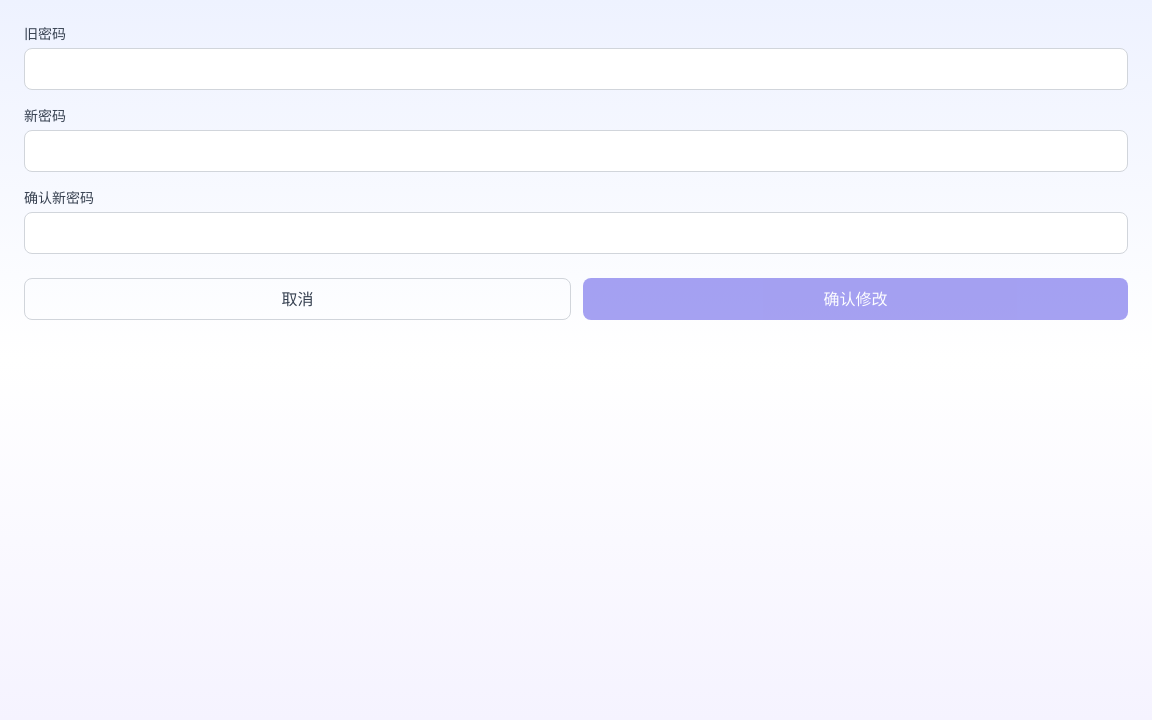
Scenario: ChangePassword › REQ-AUTH-009: shows error when old password is wrong
In the password field labelled "旧密码": (576, 69) [24,48,1128,90], type "WrongPassword"
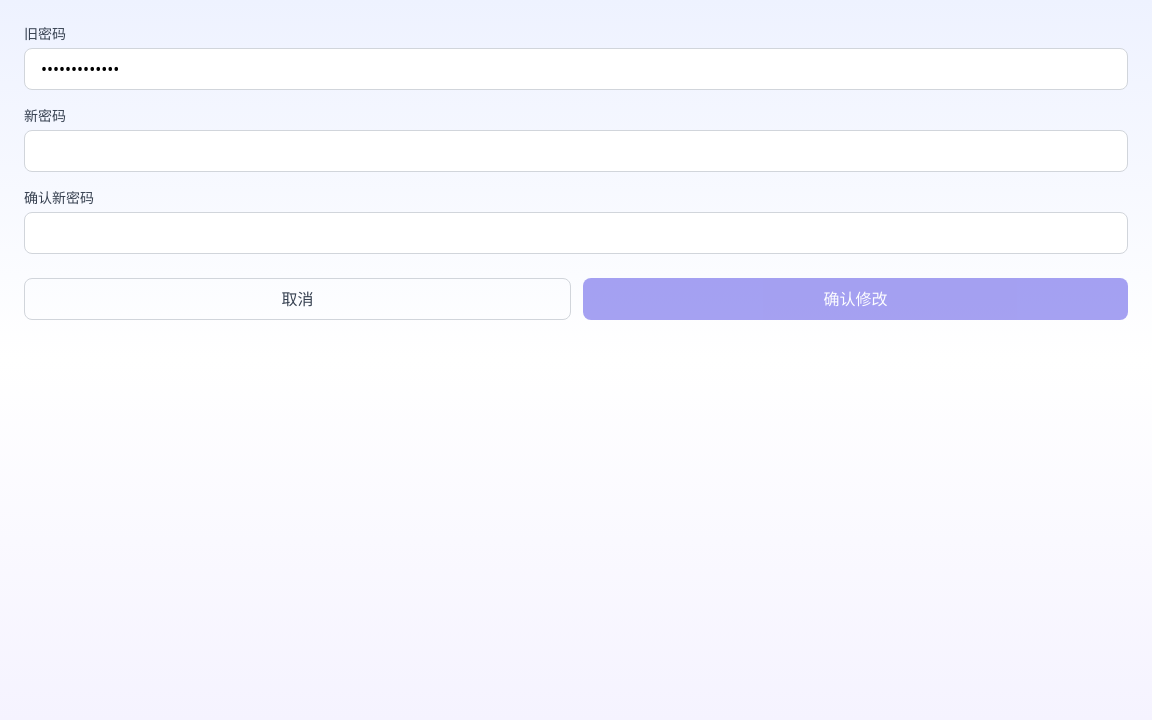
In the password field labelled "新密码": (576, 151) [24,130,1128,172], type "NewPassword456"
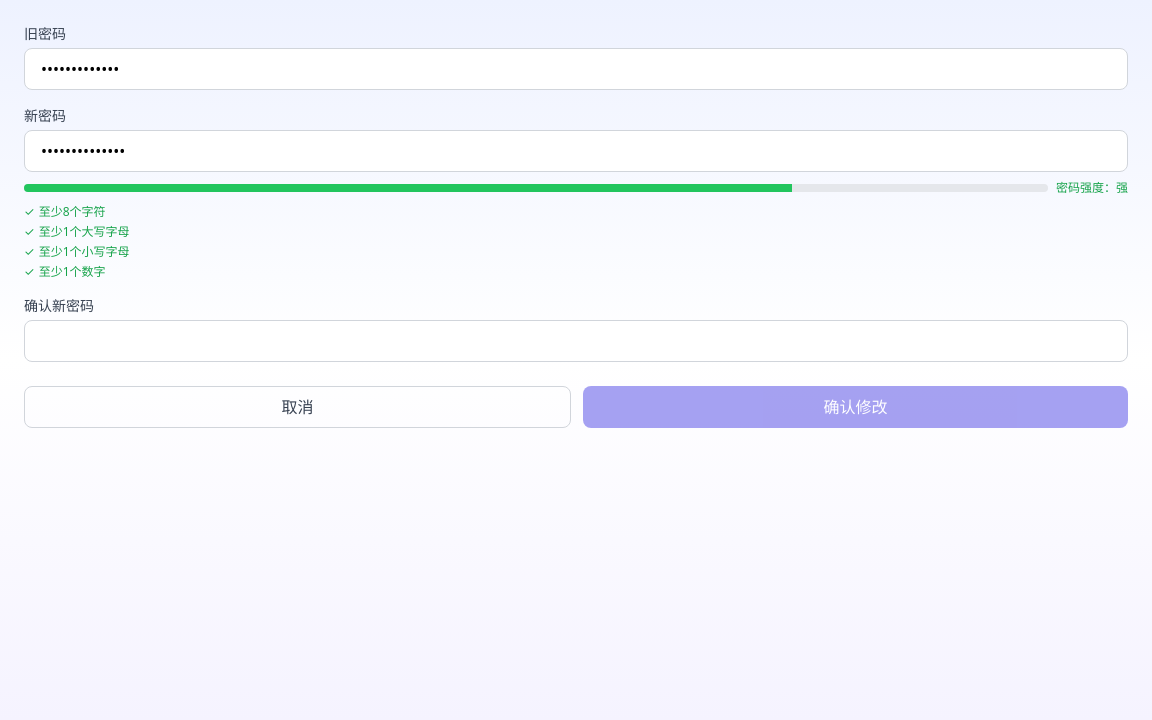
In the password field labelled "确认新密码": (576, 341) [24,320,1128,362], type "NewPassword456"
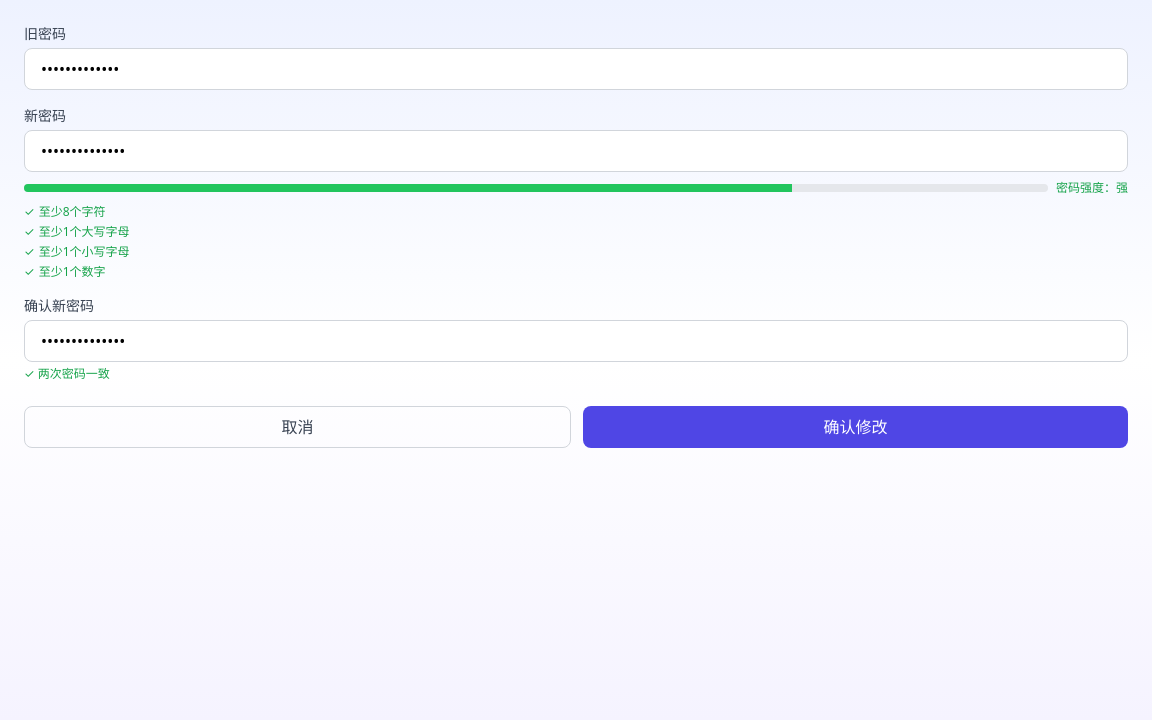
Click the button "确认修改": (856, 427) [583,406,1128,448]
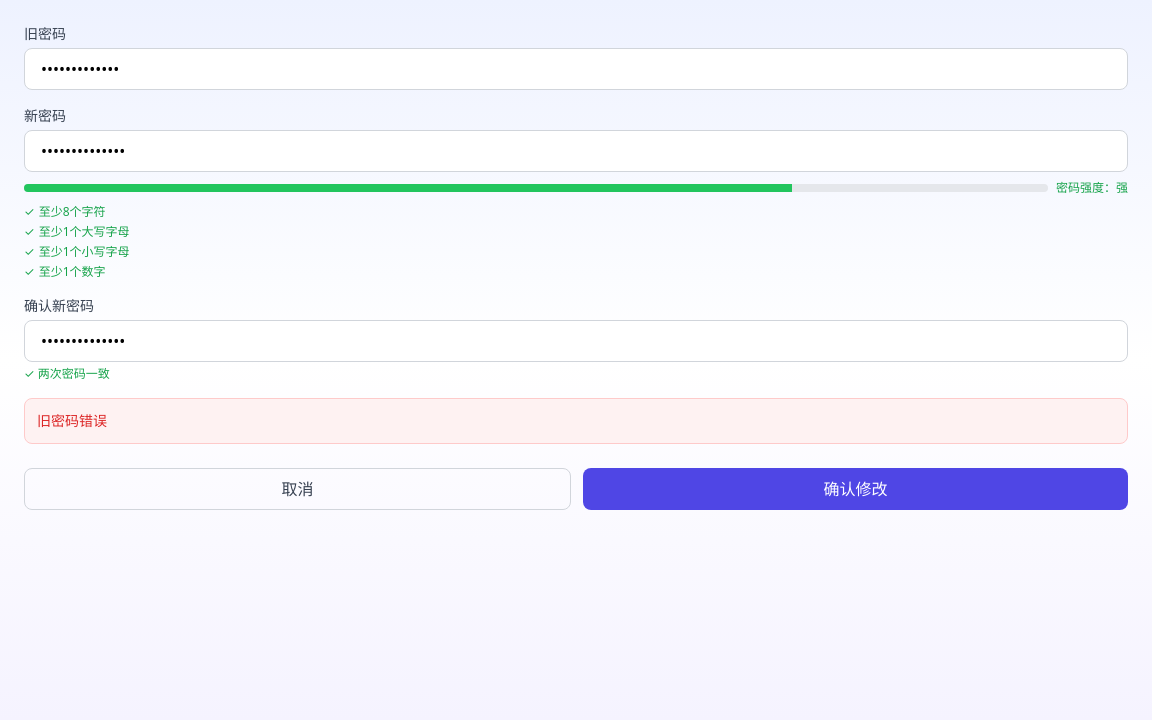
expect the text "旧密码错误" is shown: met, box [37,411,107,430]
